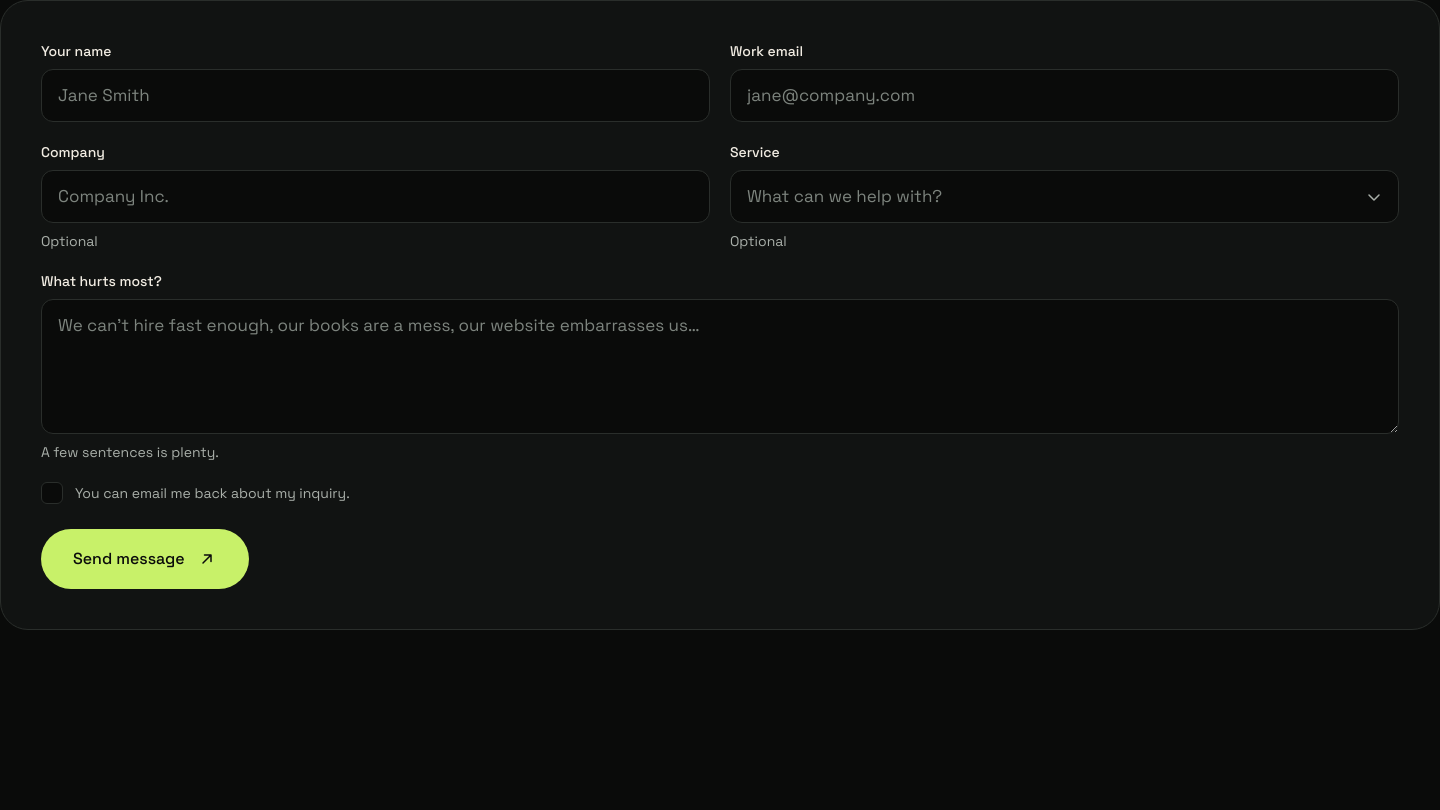
Scenario: ContactForm › shows validation errors for empty/invalid input
Click the button "Send message" at (145, 559), box [41,529,249,589]
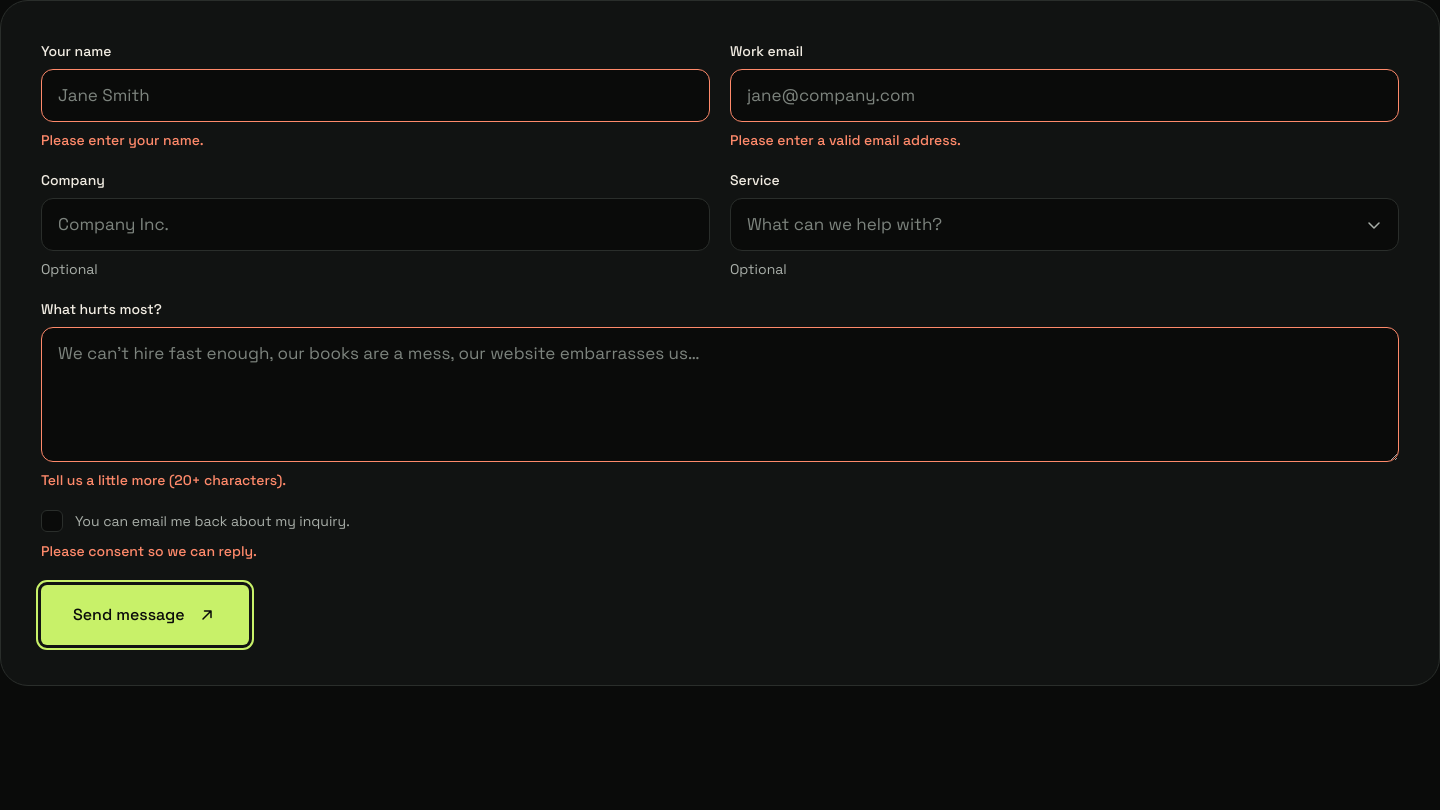
Result: the text "Please enter your name." is shown at [41,131,204,149]
Result: the text "Please enter a valid email address." is shown at [730,131,961,149]
Result: the text "Tell us a little more (20+ characters)." is shown at [41,471,286,489]
